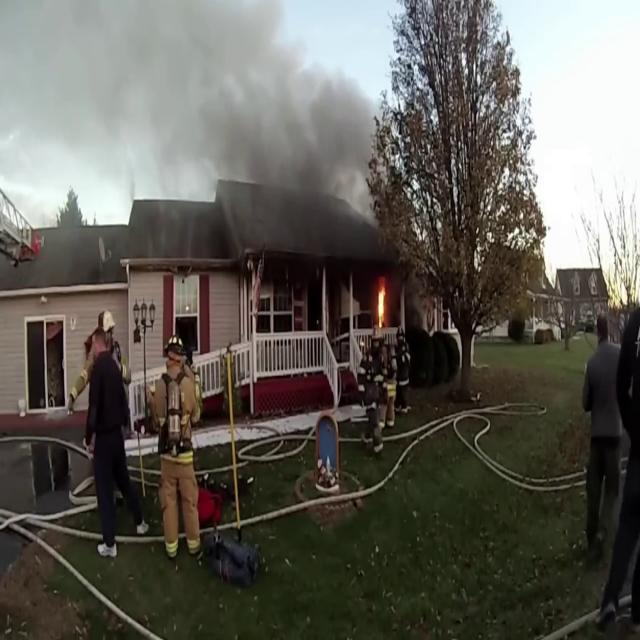Fire: (374, 274, 390, 331)
Smoke: (81, 1, 385, 250)
